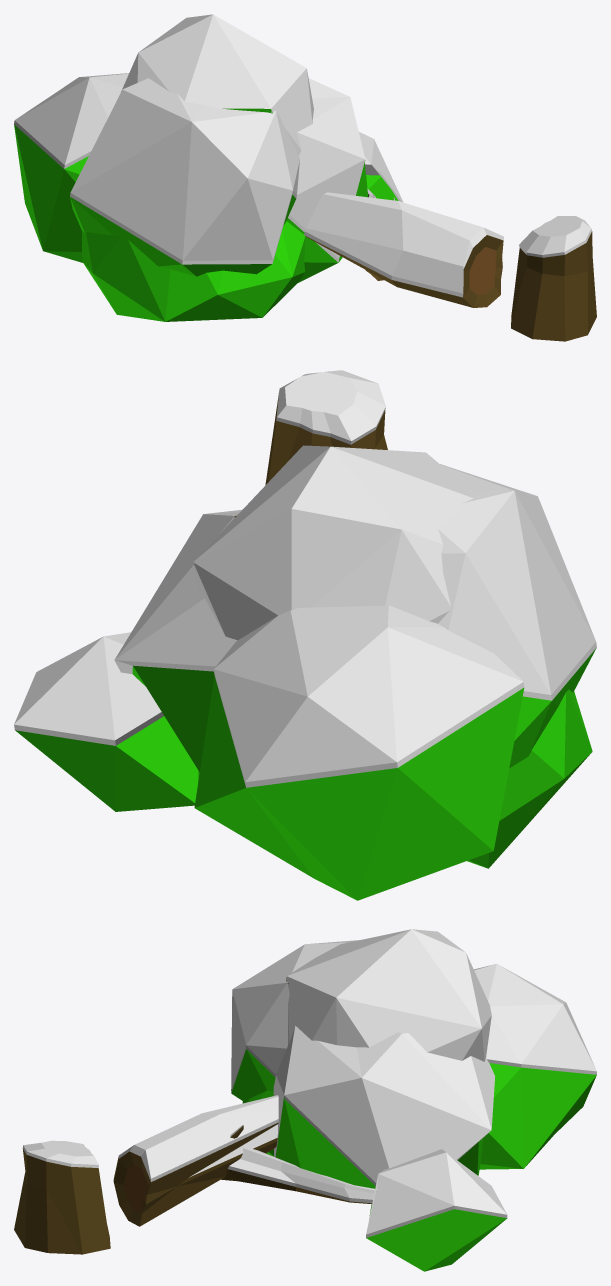
The model's file is Tree#10_Snow.fbx.
The picture shows the model from 3 angles, top to bottom: view 1: azimuth 30°, elevation 25°; view 2: azimuth 150°, elevation 25°; view 3: azimuth 270°, elevation 25°; orthographic projection. The views are drawn at different scales.
Parts seen in each view (by area): view 1: Tree#10_Snow; view 2: Tree#10_Snow; view 3: Tree#10_Snow.
Part boxes in pixels (x1,y1,x2,y2): Tree#10_Snow: (14,14,596,341); Tree#10_Snow: (14,370,596,900); Tree#10_Snow: (14,929,596,1271).
Size of the model in its own units: 1502 by 1083 by 2089.
